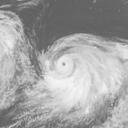cyclone: (37, 32, 103, 102)
